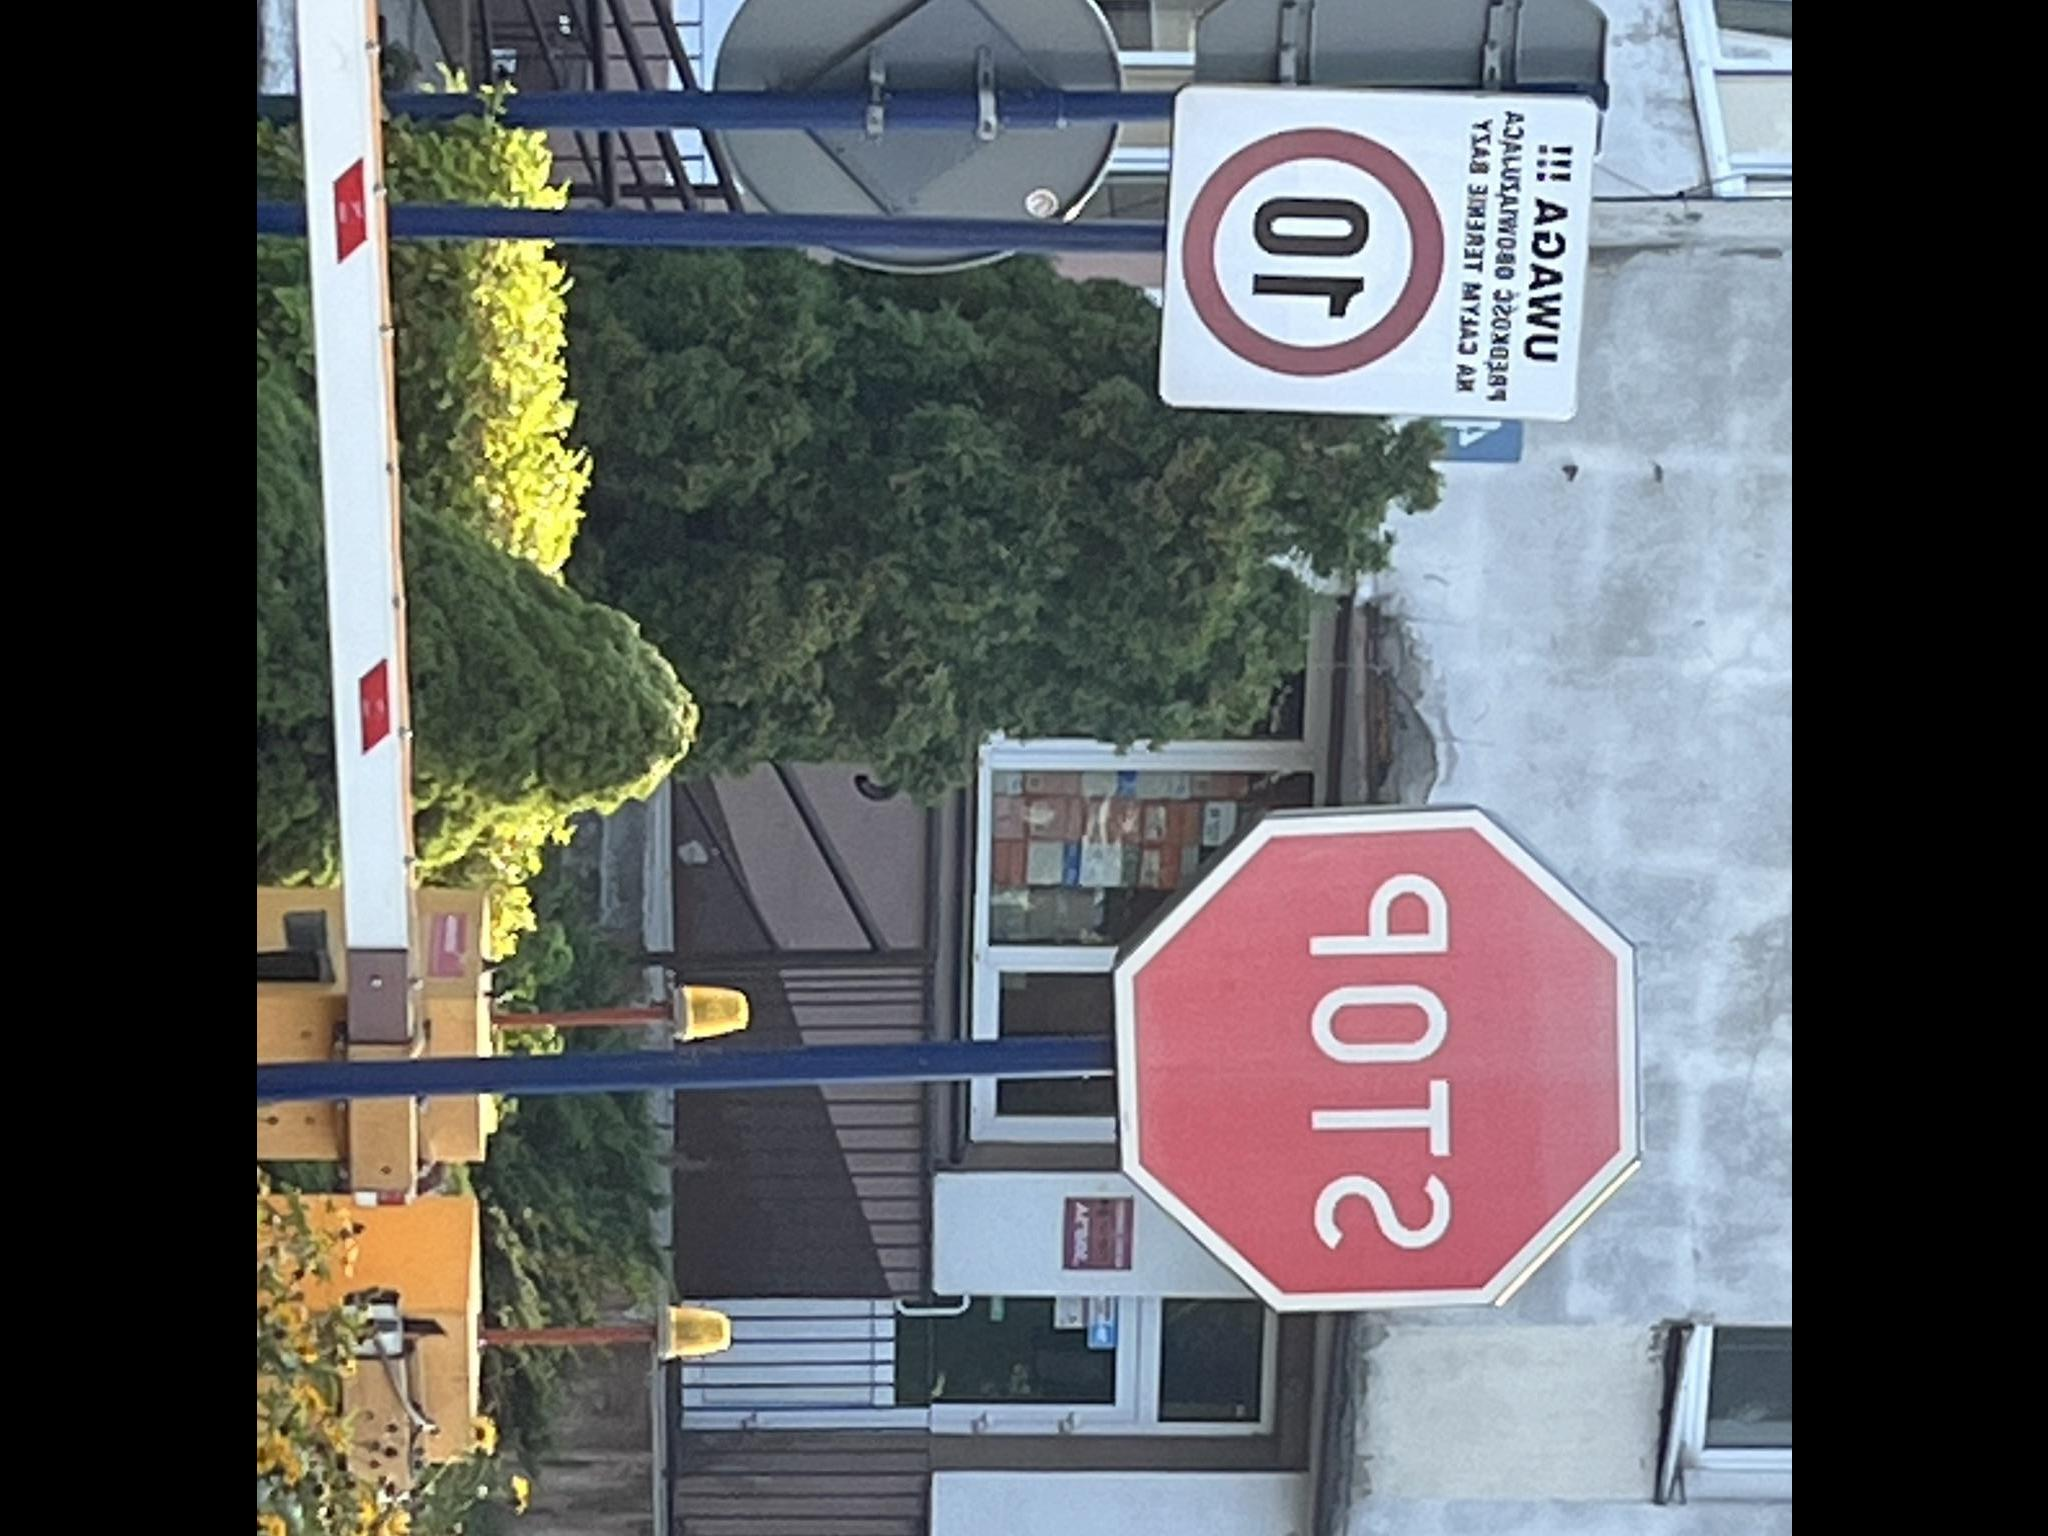prohibitory: (1113, 808, 1650, 1312)
